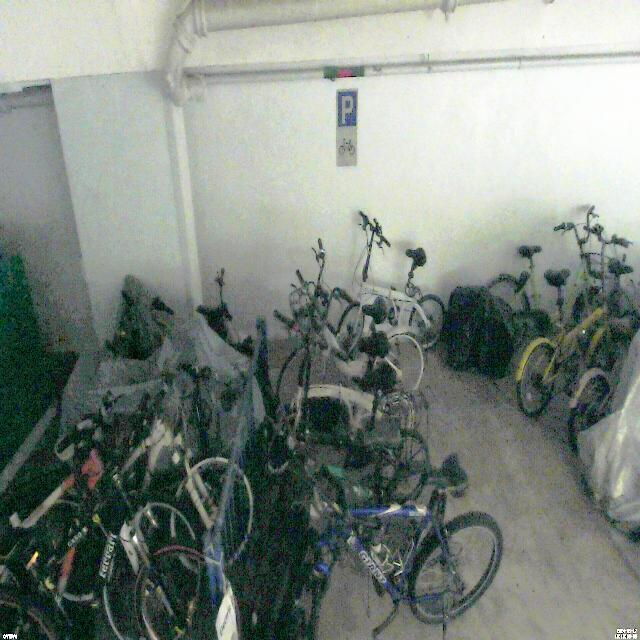bike: (278, 237, 425, 403), (515, 224, 640, 418), (335, 210, 446, 357)
